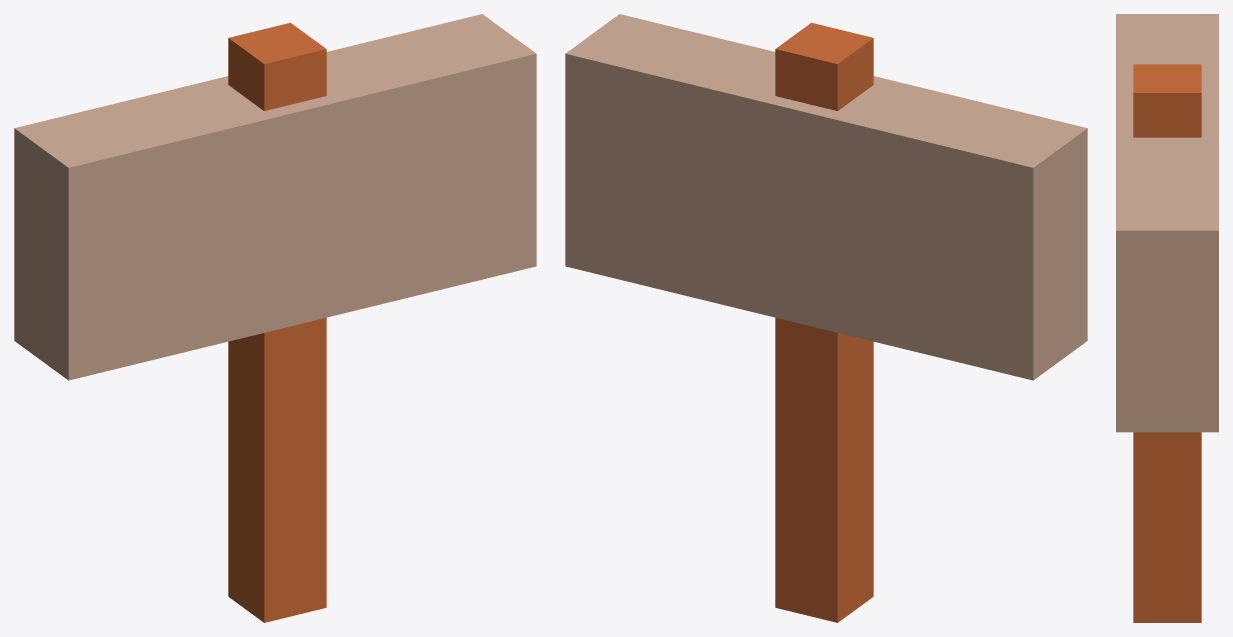
The model's file is sign_q.fbx.
3 renders of one model, left to right at view 1: azimuth 30°, elevation 25°; view 2: azimuth 150°, elevation 25°; view 3: azimuth 270°, elevation 25°, orthographic. The views are drawn at different scales.
Visible parts, largest first — view 1: Cube; view 2: Cube; view 3: Cube.
Part boxes in pixels (x1,y1,x2,y2): Cube: (14,14,536,622); Cube: (565,14,1087,622); Cube: (1116,14,1218,622).
Bounding box in the file's own units: 175 × 200 × 35.2.
